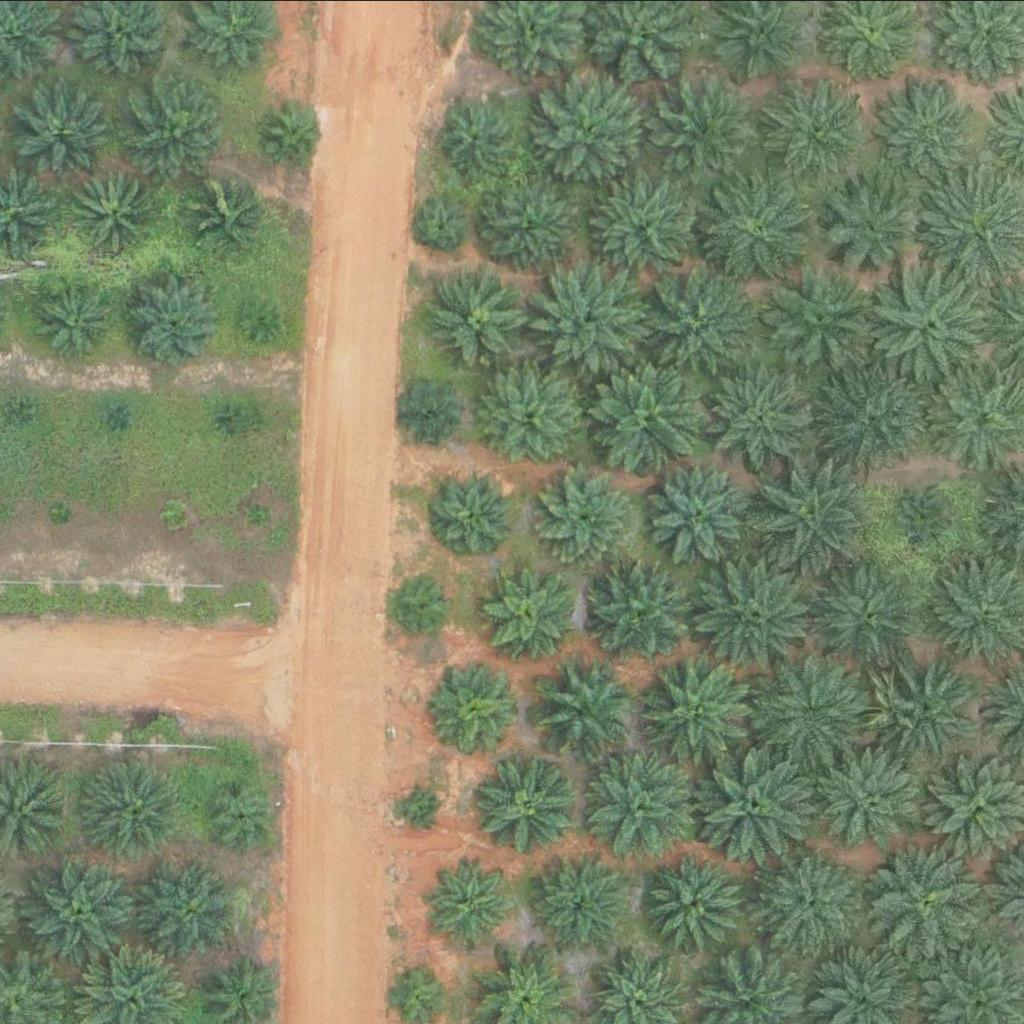Kelapa_Sawit: (695, 744, 821, 869), (752, 651, 878, 776), (694, 555, 820, 680), (753, 450, 879, 575), (584, 349, 710, 474), (813, 353, 939, 478), (633, 266, 759, 391), (864, 256, 990, 381), (695, 161, 821, 286), (865, 841, 990, 966), (587, 165, 712, 290), (643, 653, 757, 766), (584, 553, 698, 666), (21, 853, 134, 966), (811, 561, 924, 674), (533, 264, 646, 377), (765, 263, 878, 376), (821, 168, 934, 281), (875, 69, 988, 182), (118, 265, 231, 377), (578, 748, 691, 860), (814, 745, 927, 857), (863, 655, 976, 767), (645, 454, 758, 566), (702, 363, 815, 475), (536, 76, 649, 188), (648, 75, 761, 187), (127, 76, 228, 176), (139, 859, 240, 959), (528, 853, 629, 953), (644, 851, 745, 951), (760, 854, 861, 954), (538, 470, 639, 570), (479, 366, 580, 466), (427, 266, 528, 366), (481, 177, 582, 277), (81, 756, 181, 856), (473, 753, 573, 853), (531, 658, 631, 758), (29, 271, 118, 359), (73, 165, 161, 253), (428, 860, 516, 948), (483, 567, 571, 655), (432, 468, 520, 556), (771, 87, 859, 175), (25, 86, 113, 173), (437, 662, 525, 749), (203, 775, 279, 850), (191, 171, 266, 246), (440, 99, 515, 174), (264, 104, 327, 167), (899, 482, 962, 545), (402, 381, 465, 444), (395, 572, 458, 634), (419, 199, 469, 249), (240, 299, 278, 337), (403, 785, 441, 822), (16, 402, 41, 427), (51, 500, 76, 525), (163, 504, 188, 529), (247, 501, 272, 526), (105, 401, 130, 426), (215, 408, 240, 433)
